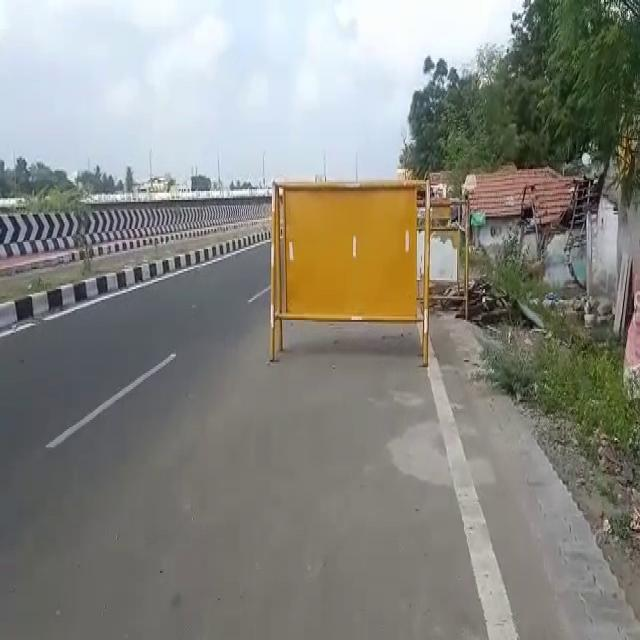fallen_object: (250, 159, 440, 379)
